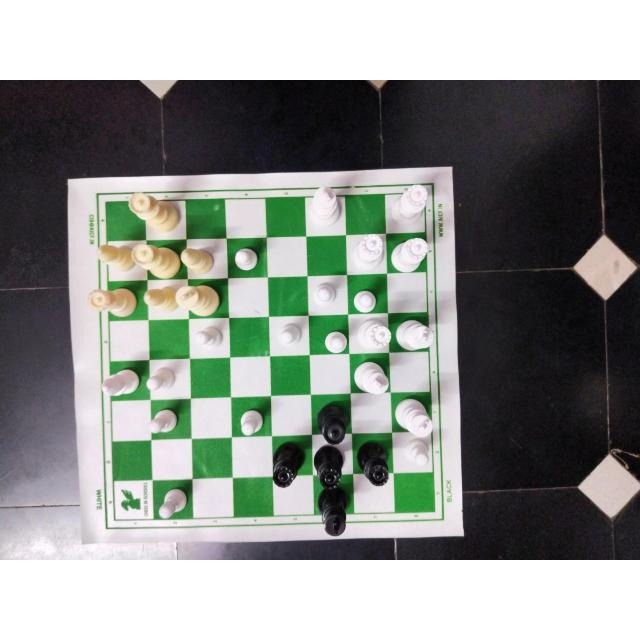black-king: (316, 486, 352, 538)
black-queen: (271, 443, 305, 487), (318, 400, 352, 444), (313, 444, 343, 490), (359, 445, 391, 486)
white-bishop: (95, 243, 135, 271), (100, 368, 140, 396), (142, 286, 179, 313), (179, 248, 215, 273)
white-king: (394, 398, 434, 438), (174, 284, 221, 315), (308, 186, 342, 228), (353, 360, 389, 398), (396, 318, 434, 351)
white-pawn: (157, 486, 191, 519), (234, 408, 267, 436), (146, 408, 180, 433), (192, 326, 224, 352), (403, 438, 430, 468), (351, 289, 382, 313), (320, 328, 349, 353), (233, 246, 259, 273), (275, 321, 302, 347), (146, 366, 174, 391), (311, 281, 337, 306)
white-queen: (126, 192, 180, 232), (130, 243, 179, 279), (391, 184, 427, 225), (87, 287, 136, 317), (390, 236, 428, 274), (346, 234, 385, 270), (356, 317, 392, 353)
